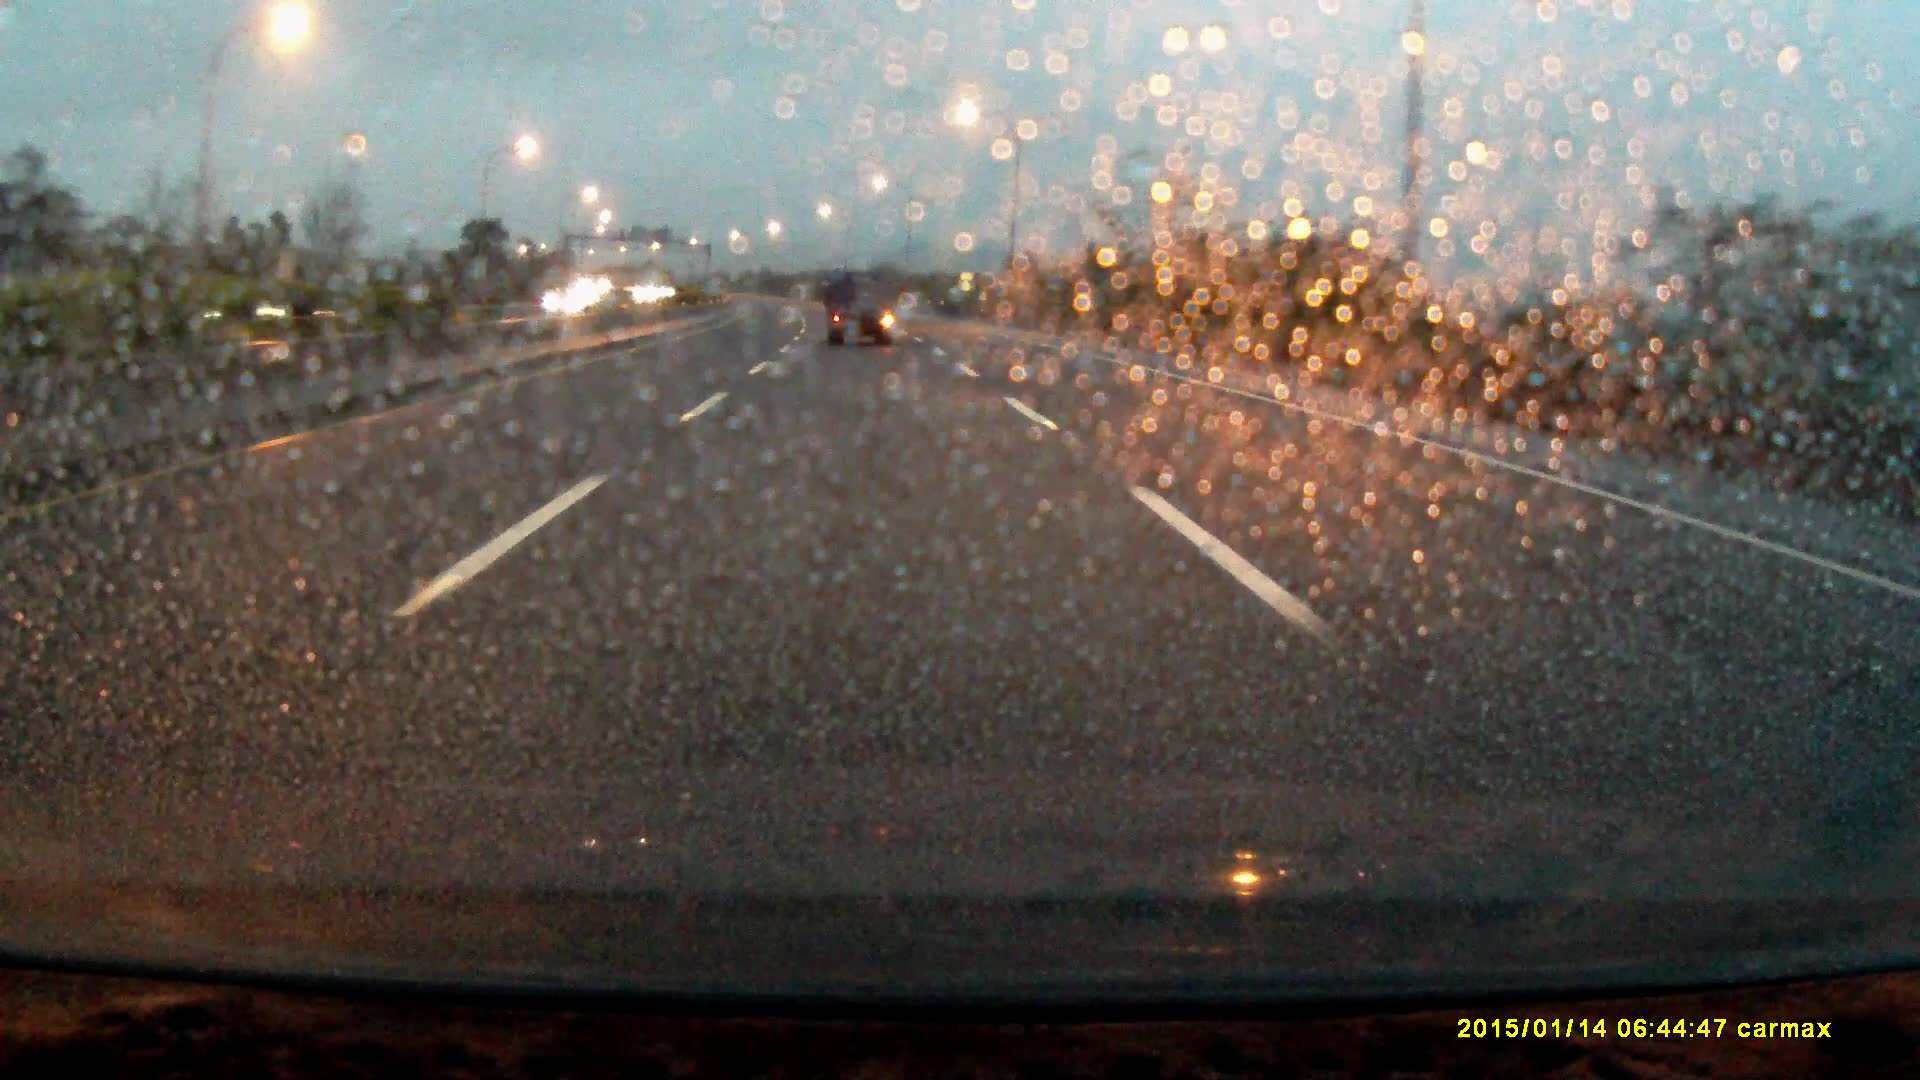vehicle: (827, 277, 897, 351), (545, 287, 603, 316)
